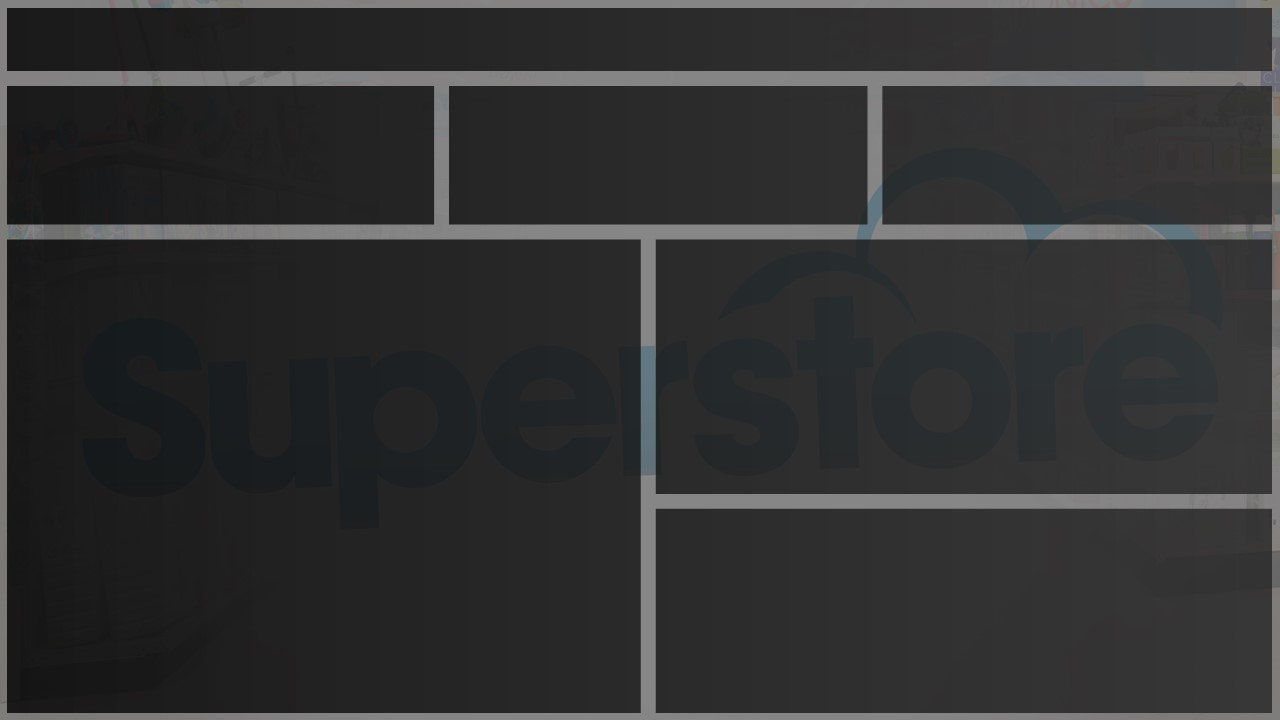

What the dashboard file says about the page in this screenshot:
{"tool":"tableau","page":{"name":"Dashboard DARK","canvas":[1200,680],"ordinal":0},"visuals":[{"type":"image","param":"D:/tableau/project_12109777/project/Sales Dashboard Background/Slide4.JPG","box":[8,8,1184,664]},{"type":"text","box":[16,18,810,48]},{"type":"dashboard-object","box":[915,19,67,47]},{"type":"dashboard-object","box":[1039,21,47,42]},{"type":"filter","title":"Sales and Profit by State","param":"[federated.0m3qvh21rrme3j134yyo20wzaxf3].[none:Category:nk]","box":[889,61,156,54]},{"type":"text","box":[15,70,595,30]},{"type":"worksheet","title":"Sales KPI","mark":"Automatic","box":[16,99,135,93]},{"type":"worksheet","title":"Quantity Sparkline","mark":"Automatic","rows":["min max profit month (copy)_302585608824328206"],"cols":["Order Date"],"box":[954,103,189,102]},{"type":"worksheet","title":"Sales Sparkline","mark":"Automatic","rows":["Calculation_302585608818597900"],"cols":["Order Date"],"box":[150,104,254,100]},{"type":"worksheet","title":"Profit Sparkline","mark":"Automatic","rows":["min max month (copy)_302585608822923277"],"cols":["Order Date"],"box":[551,104,250,101]},{"type":"worksheet","title":"Profit KPI","mark":"Automatic","box":[423,110,138,105]},{"type":"worksheet","title":"Quantity KPI","mark":"Automatic","box":[815,111,143,105]},{"type":"filter","title":"Sales and Profit by State","param":"[federated.0m3qvh21rrme3j134yyo20wzaxf3].[none:Region:nk]","box":[889,115,156,54]},{"type":"filter","title":"Sales and Profit by State","param":"[federated.0m3qvh21rrme3j134yyo20wzaxf3].[none:Ship Mode:nk]","box":[889,169,156,53]},{"type":"worksheet","title":"Sales and Profit by State","mark":"Circle","rows":["Row"],"cols":["Column","Column"],"box":[14,225,482,277]},{"type":"text","box":[666,229,158,30]},{"type":"legend","title":"Sales and Profit by State","param":"[federated.0m3qvh21rrme3j134yyo20wzaxf3].[sum:Calculation_302585608803823616:qk]","box":[495,231,155,43]},{"type":"text","box":[23,232,233,30]},{"type":"parameter","param":"[Parameters].[Parameter 1]","box":[942,233,187,22]},{"type":"worksheet","title":"Monthly Sales by Segment","mark":"Area","rows":["Calculation_302585608847978517"],"cols":["Segment","Order Date"],"box":[662,269,474,194]},{"type":"legend","title":"Sales and Profit by State","param":"[federated.0m3qvh21rrme3j134yyo20wzaxf3].[sum:Calculation_302585608803823616:qk]","box":[496,287,65,94]},{"type":"legend","title":"Sales and Profit by State","param":"[federated.0m3qvh21rrme3j134yyo20wzaxf3].[sum:Total CY Sales (copy)_302585608812","box":[577,288,140,114]},{"type":"worksheet","title":"Region Wise Sale","mark":"Circle","cols":["Region"],"box":[892,481,243,45]},{"type":"text","box":[668,486,159,30]},{"type":"text","box":[340,502,226,30]},{"type":"text","box":[28,503,224,30]},{"type":"worksheet","title":"Avg Sales by State","mark":"Circle","rows":["Row"],"cols":["Column"],"box":[33,526,209,135]},{"type":"worksheet","title":"Avg Profit by State","mark":"Circle","rows":["Row"],"cols":["Column"],"box":[348,528,230,131]},{"type":"worksheet","title":"Total Sales by location and Manager","mark":"Automatic","rows":["Country/Region","Regional Manager"],"cols":["Calculation_302585608803823616"],"box":[661,532,477,134]},{"type":"worksheet","title":"Avg Profit by State Count","mark":"Circle","rows":["Sales avg Color (copy)_302585608842358804"],"box":[578,573,70,57]},{"type":"worksheet","title":"Avg Sales by State Count","mark":"Circle","rows":["Calculation_302585608839053329"],"box":[252,575,60,49]}]}

Visuals, with their boxes in screenshot pixels (x1, y1, x2, y2), scaled from the page's 1200x680 canvas onto the 1280x720 screenshot:
image: {"x1": 9, "y1": 8, "x2": 1271, "y2": 712}
text: {"x1": 17, "y1": 19, "x2": 881, "y2": 70}
dashboard-object: {"x1": 976, "y1": 20, "x2": 1047, "y2": 70}
dashboard-object: {"x1": 1108, "y1": 22, "x2": 1158, "y2": 67}
"Sales and Profit by State" filter: {"x1": 948, "y1": 65, "x2": 1115, "y2": 122}
text: {"x1": 16, "y1": 74, "x2": 651, "y2": 106}
"Sales KPI" worksheet: {"x1": 17, "y1": 105, "x2": 161, "y2": 203}
"Quantity Sparkline" worksheet: {"x1": 1018, "y1": 109, "x2": 1219, "y2": 217}
"Sales Sparkline" worksheet: {"x1": 160, "y1": 110, "x2": 431, "y2": 216}
"Profit Sparkline" worksheet: {"x1": 588, "y1": 110, "x2": 854, "y2": 217}
"Profit KPI" worksheet: {"x1": 451, "y1": 116, "x2": 598, "y2": 228}
"Quantity KPI" worksheet: {"x1": 869, "y1": 118, "x2": 1022, "y2": 229}
"Sales and Profit by State" filter: {"x1": 948, "y1": 122, "x2": 1115, "y2": 179}
"Sales and Profit by State" filter: {"x1": 948, "y1": 179, "x2": 1115, "y2": 235}
"Sales and Profit by State" worksheet (Circle marks): {"x1": 15, "y1": 238, "x2": 529, "y2": 532}
text: {"x1": 710, "y1": 242, "x2": 879, "y2": 274}
"Sales and Profit by State" legend: {"x1": 528, "y1": 245, "x2": 693, "y2": 290}
text: {"x1": 25, "y1": 246, "x2": 273, "y2": 277}
parameter: {"x1": 1005, "y1": 247, "x2": 1204, "y2": 270}
"Monthly Sales by Segment" worksheet (Area marks): {"x1": 706, "y1": 285, "x2": 1212, "y2": 490}
"Sales and Profit by State" legend: {"x1": 529, "y1": 304, "x2": 598, "y2": 403}
"Sales and Profit by State" legend: {"x1": 615, "y1": 305, "x2": 765, "y2": 426}
"Region Wise Sale" worksheet (Circle marks): {"x1": 951, "y1": 509, "x2": 1211, "y2": 557}
text: {"x1": 713, "y1": 515, "x2": 882, "y2": 546}
text: {"x1": 363, "y1": 532, "x2": 604, "y2": 563}
text: {"x1": 30, "y1": 533, "x2": 269, "y2": 564}
"Avg Sales by State" worksheet (Circle marks): {"x1": 35, "y1": 557, "x2": 258, "y2": 700}
"Avg Profit by State" worksheet (Circle marks): {"x1": 371, "y1": 559, "x2": 617, "y2": 698}
"Total Sales by location and Manager" worksheet: {"x1": 705, "y1": 563, "x2": 1214, "y2": 705}
"Avg Profit by State Count" worksheet (Circle marks): {"x1": 617, "y1": 607, "x2": 691, "y2": 667}
"Avg Sales by State Count" worksheet (Circle marks): {"x1": 269, "y1": 609, "x2": 333, "y2": 661}
